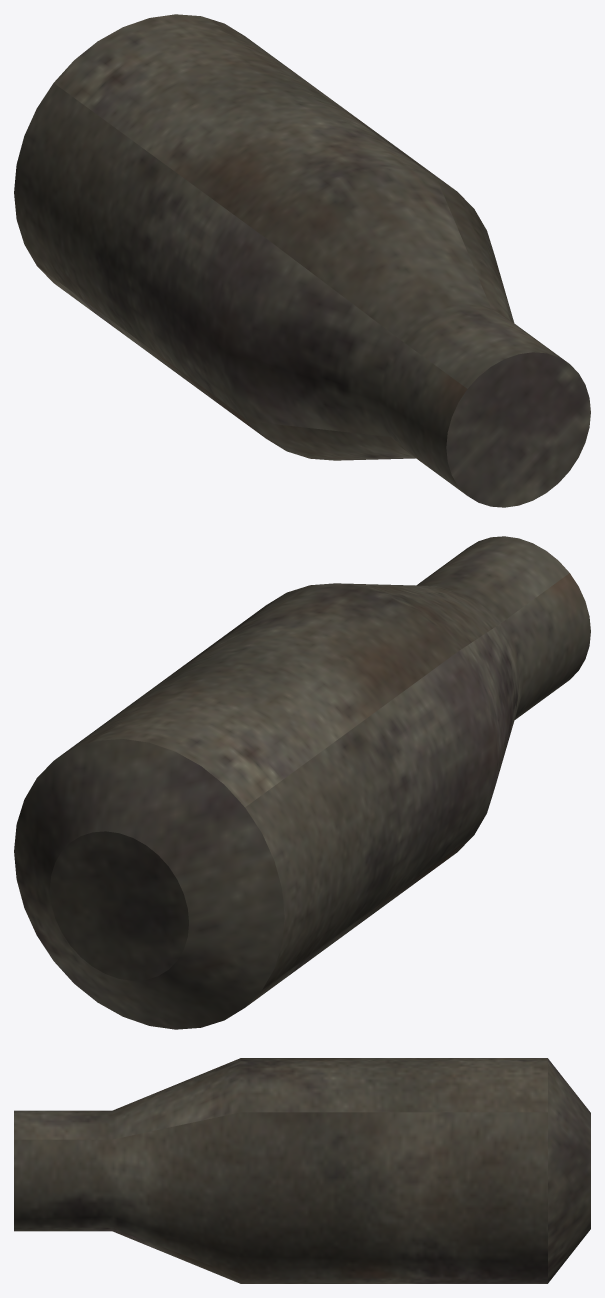
The model's file is PlugWire.fbx.
3 renders of one model, top to bottom at view 1: azimuth 30°, elevation 25°; view 2: azimuth 150°, elevation 25°; view 3: azimuth 270°, elevation 25°, orthographic. The views are drawn at different scales.
Parts seen in each view (by area): view 1: Plug; view 2: Plug; view 3: Plug.
Boxes of the visible parts, left/top/right/bottom form: Plug: left=14, top=14, right=590, bottom=507; Plug: left=14, top=536, right=590, bottom=1029; Plug: left=14, top=1058, right=590, bottom=1283.
Bounding box in the file's own units: 3.13 × 3.13 × 8.
1 material, 1 textured.
